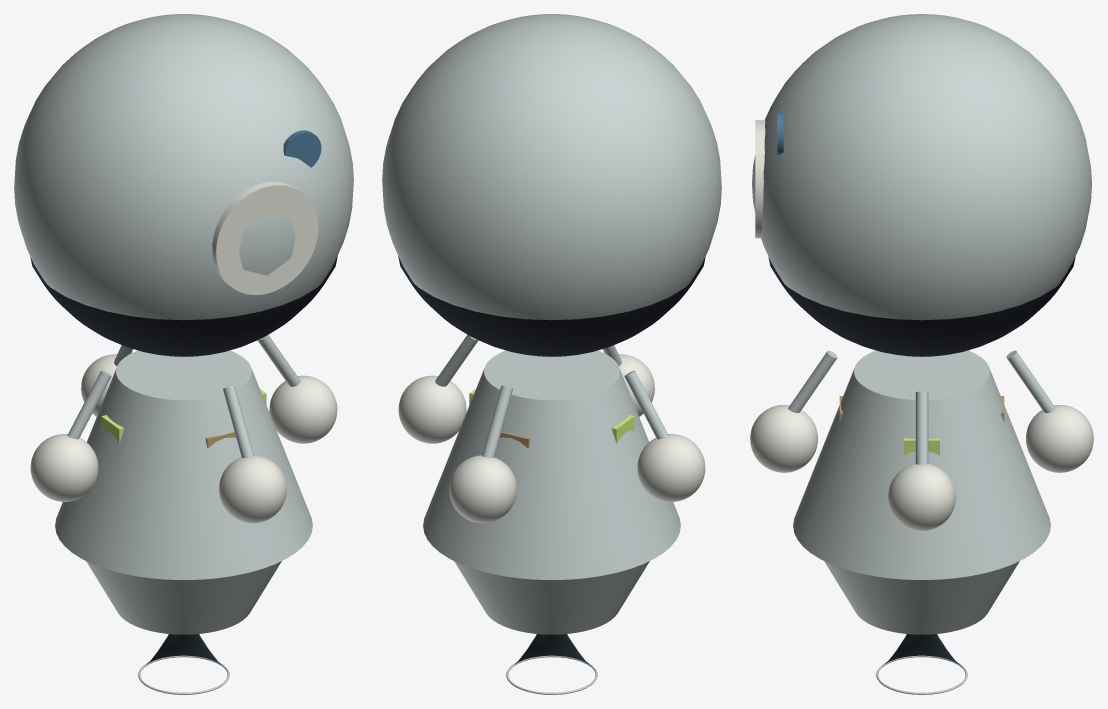
The model's file is vostok-1.glb.
3 views of the same model, side by side, from view 1: azimuth 30°, elevation 25°; view 2: azimuth 150°, elevation 25°; view 3: azimuth 270°, elevation 25° (orthographic).
Visible parts, largest first — view 1: crew, service, heatshield, propulsion, avionics; view 2: crew, service, heatshield, propulsion, avionics; view 3: crew, service, heatshield, propulsion, avionics.
Part boxes in pixels (bbox=[...]): crew: bbox=[14, 14, 353, 320]; service: bbox=[30, 334, 337, 634]; heatshield: bbox=[30, 256, 337, 356]; propulsion: bbox=[138, 634, 229, 694]; avionics: bbox=[101, 389, 266, 448]; crew: bbox=[382, 14, 721, 320]; service: bbox=[398, 334, 705, 634]; heatshield: bbox=[398, 256, 705, 356]; propulsion: bbox=[506, 634, 597, 694]; avionics: bbox=[469, 389, 634, 448]; crew: bbox=[752, 14, 1091, 320]; service: bbox=[750, 350, 1093, 634]; heatshield: bbox=[768, 257, 1075, 356]; propulsion: bbox=[876, 634, 967, 694]; avionics: bbox=[839, 396, 1004, 455].
Bounding box in the file's own units: 1.92 × 3.98 × 1.92.
